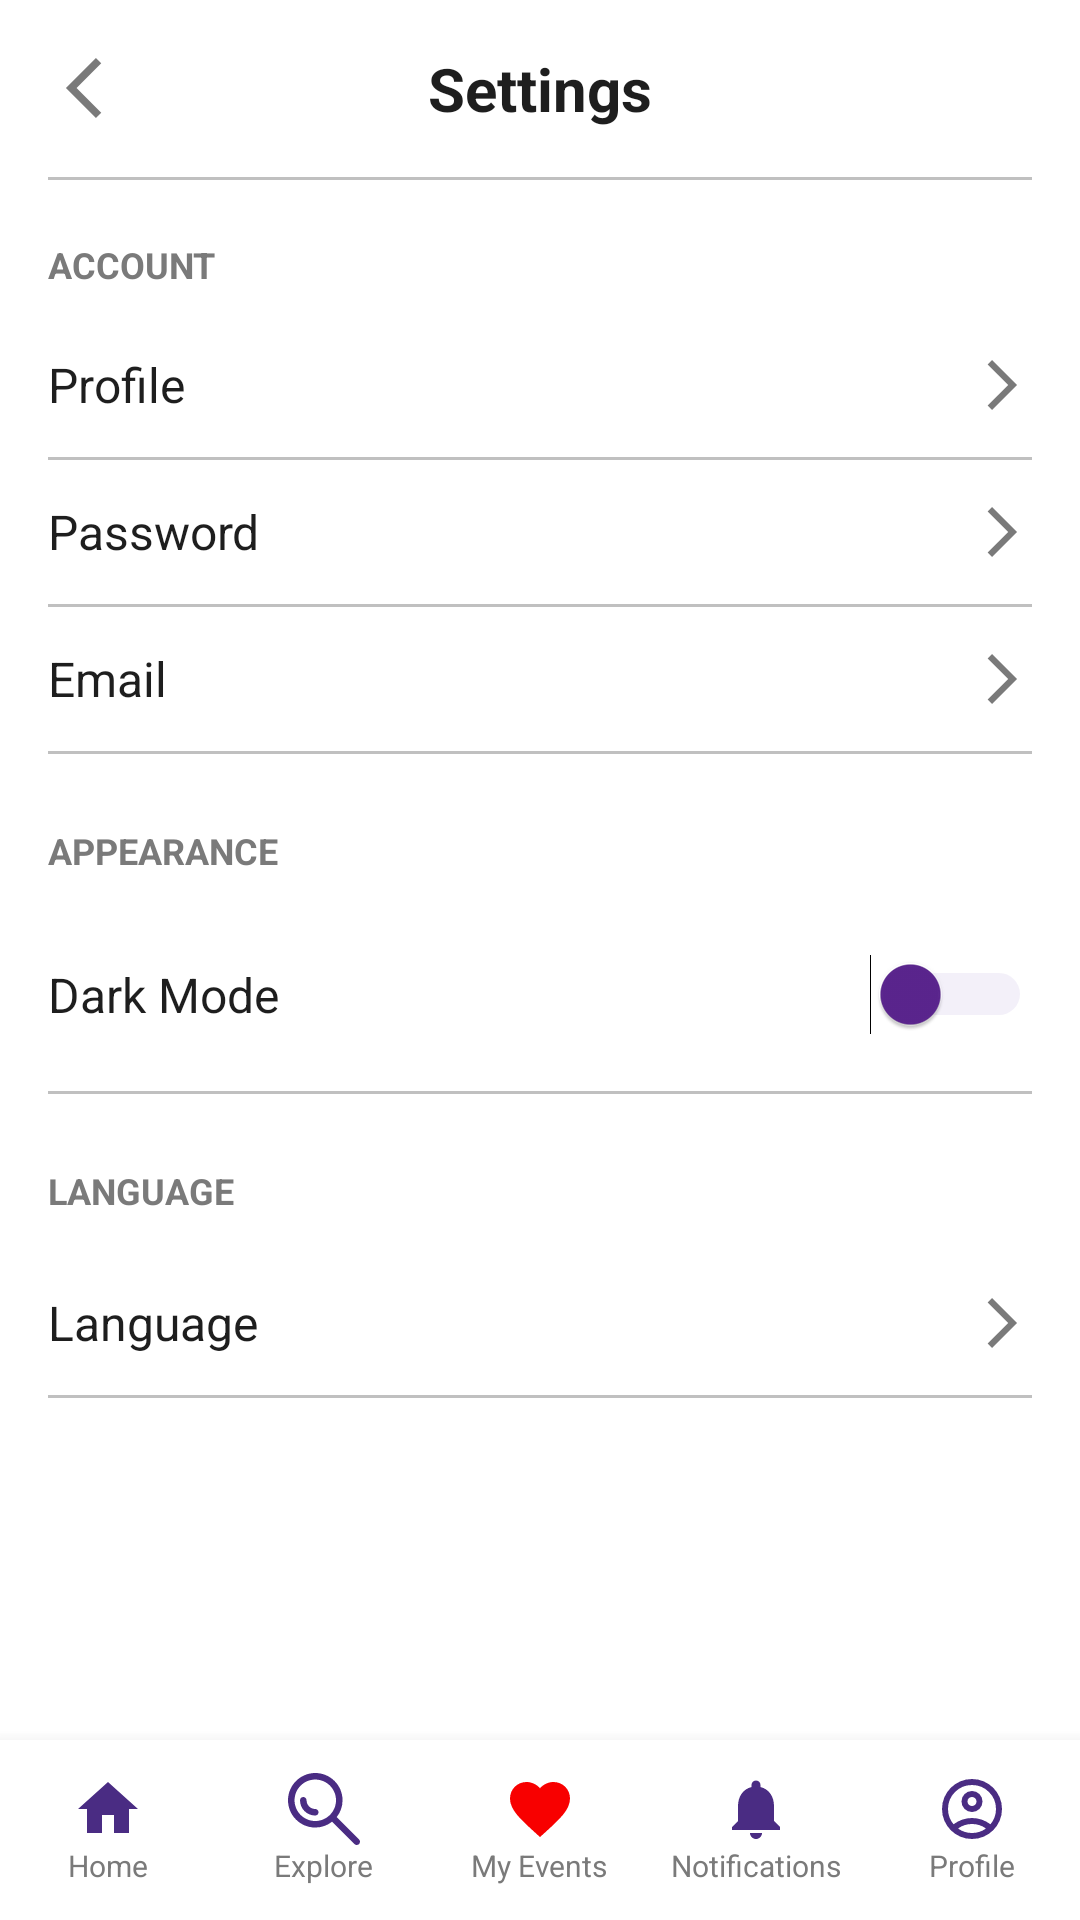

Icon bounding boxes for this 1080x1920 phone screenshot, format (x1, y1, x2, y2):
profile arrow: (988, 360, 1017, 410), (988, 507, 1017, 557), (988, 654, 1017, 704), (988, 1298, 1017, 1348)
